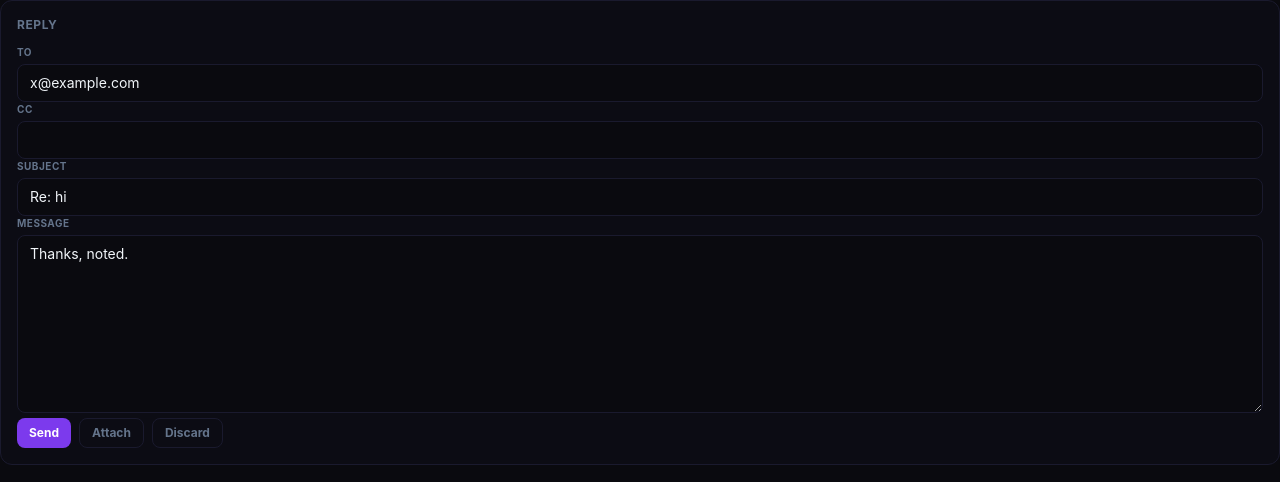
it: assistant draft reply › opens with the draft text and sends as the person, replacing the assistant draft
expect the text box named "Message body" holds "Thanks, noted.": met, box [17,235,1263,413]
expect the field labelled "To" holds "x@example.com": met, box [17,64,1263,102]
What coordinates should you click on to do the following:
click the button "Send"
I would click on:
 (44, 433)
Its box is [17,418,71,448].
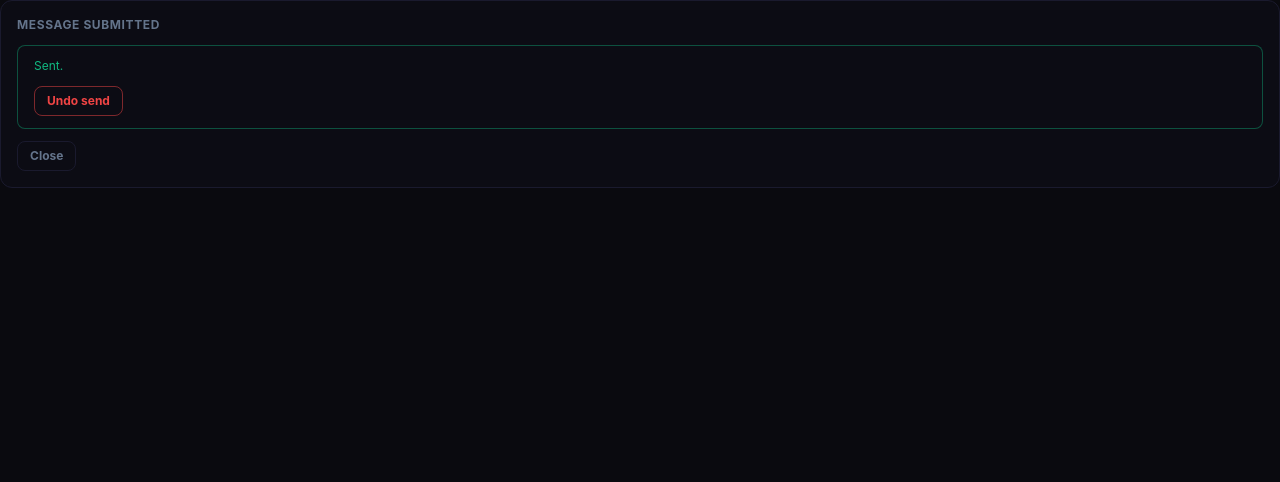
expect the heading "Message submitted" is shown: met, box [17,17,160,33]
